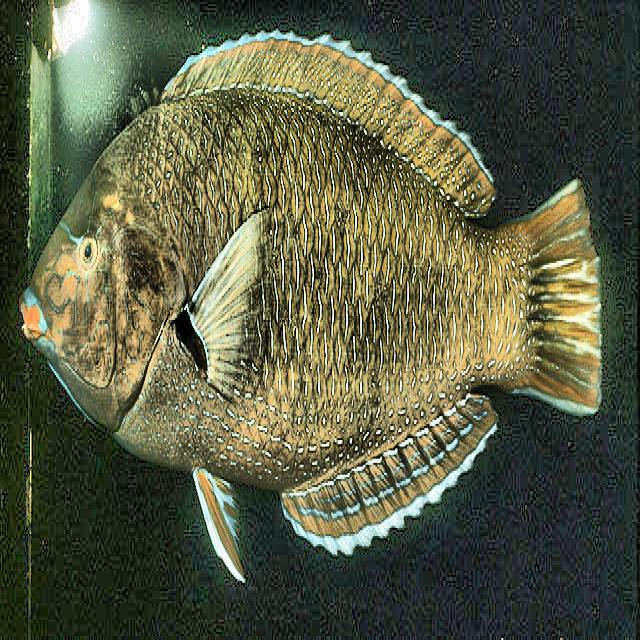fish: (21, 26, 602, 595)
